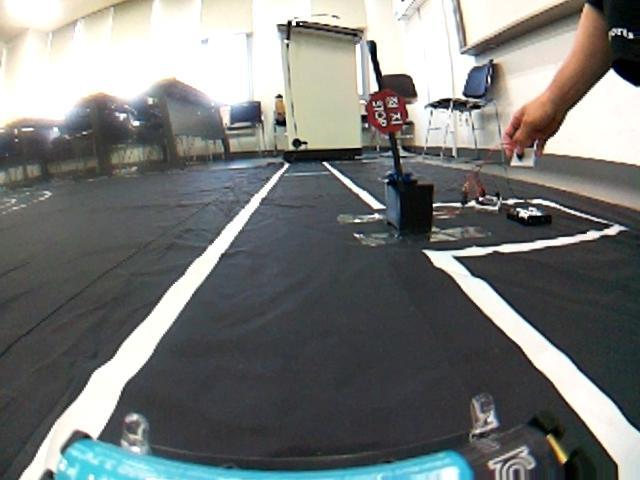sign_stop: (366, 88, 410, 130)
straight: (18, 272, 640, 475)
